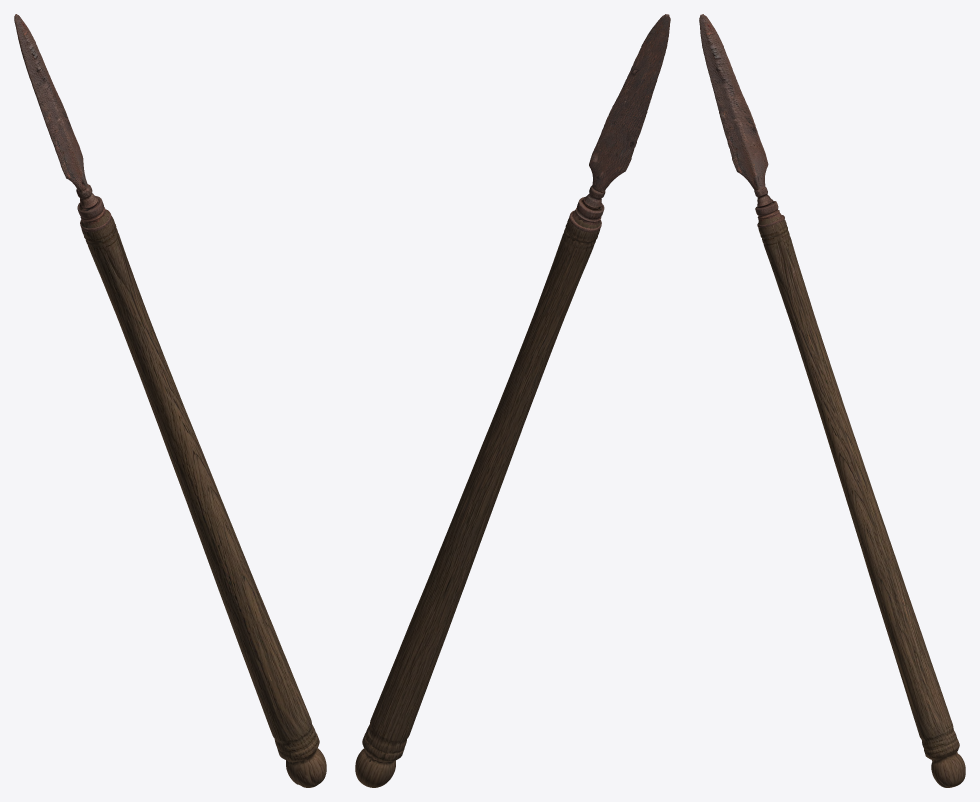
File: tombak-1-fixed.glb
3 views of the same model, side by side, from view 1: azimuth 30°, elevation 25°; view 2: azimuth 150°, elevation 25°; view 3: azimuth 330°, elevation 25° (orthographic). The views are drawn at different scales.
Visible parts, largest first — view 1: node_0.001; view 2: node_0.001; view 3: node_0.001.
Boxes of the visible parts, box(x1,y1,x2,y2) form: node_0.001: box(14, 14, 326, 787); node_0.001: box(355, 14, 670, 787); node_0.001: box(699, 14, 965, 787).
Size of the model in its own units: 0.2816 by 0.7289 by 0.0334.
Materials: 2 (2 with a texture image).
